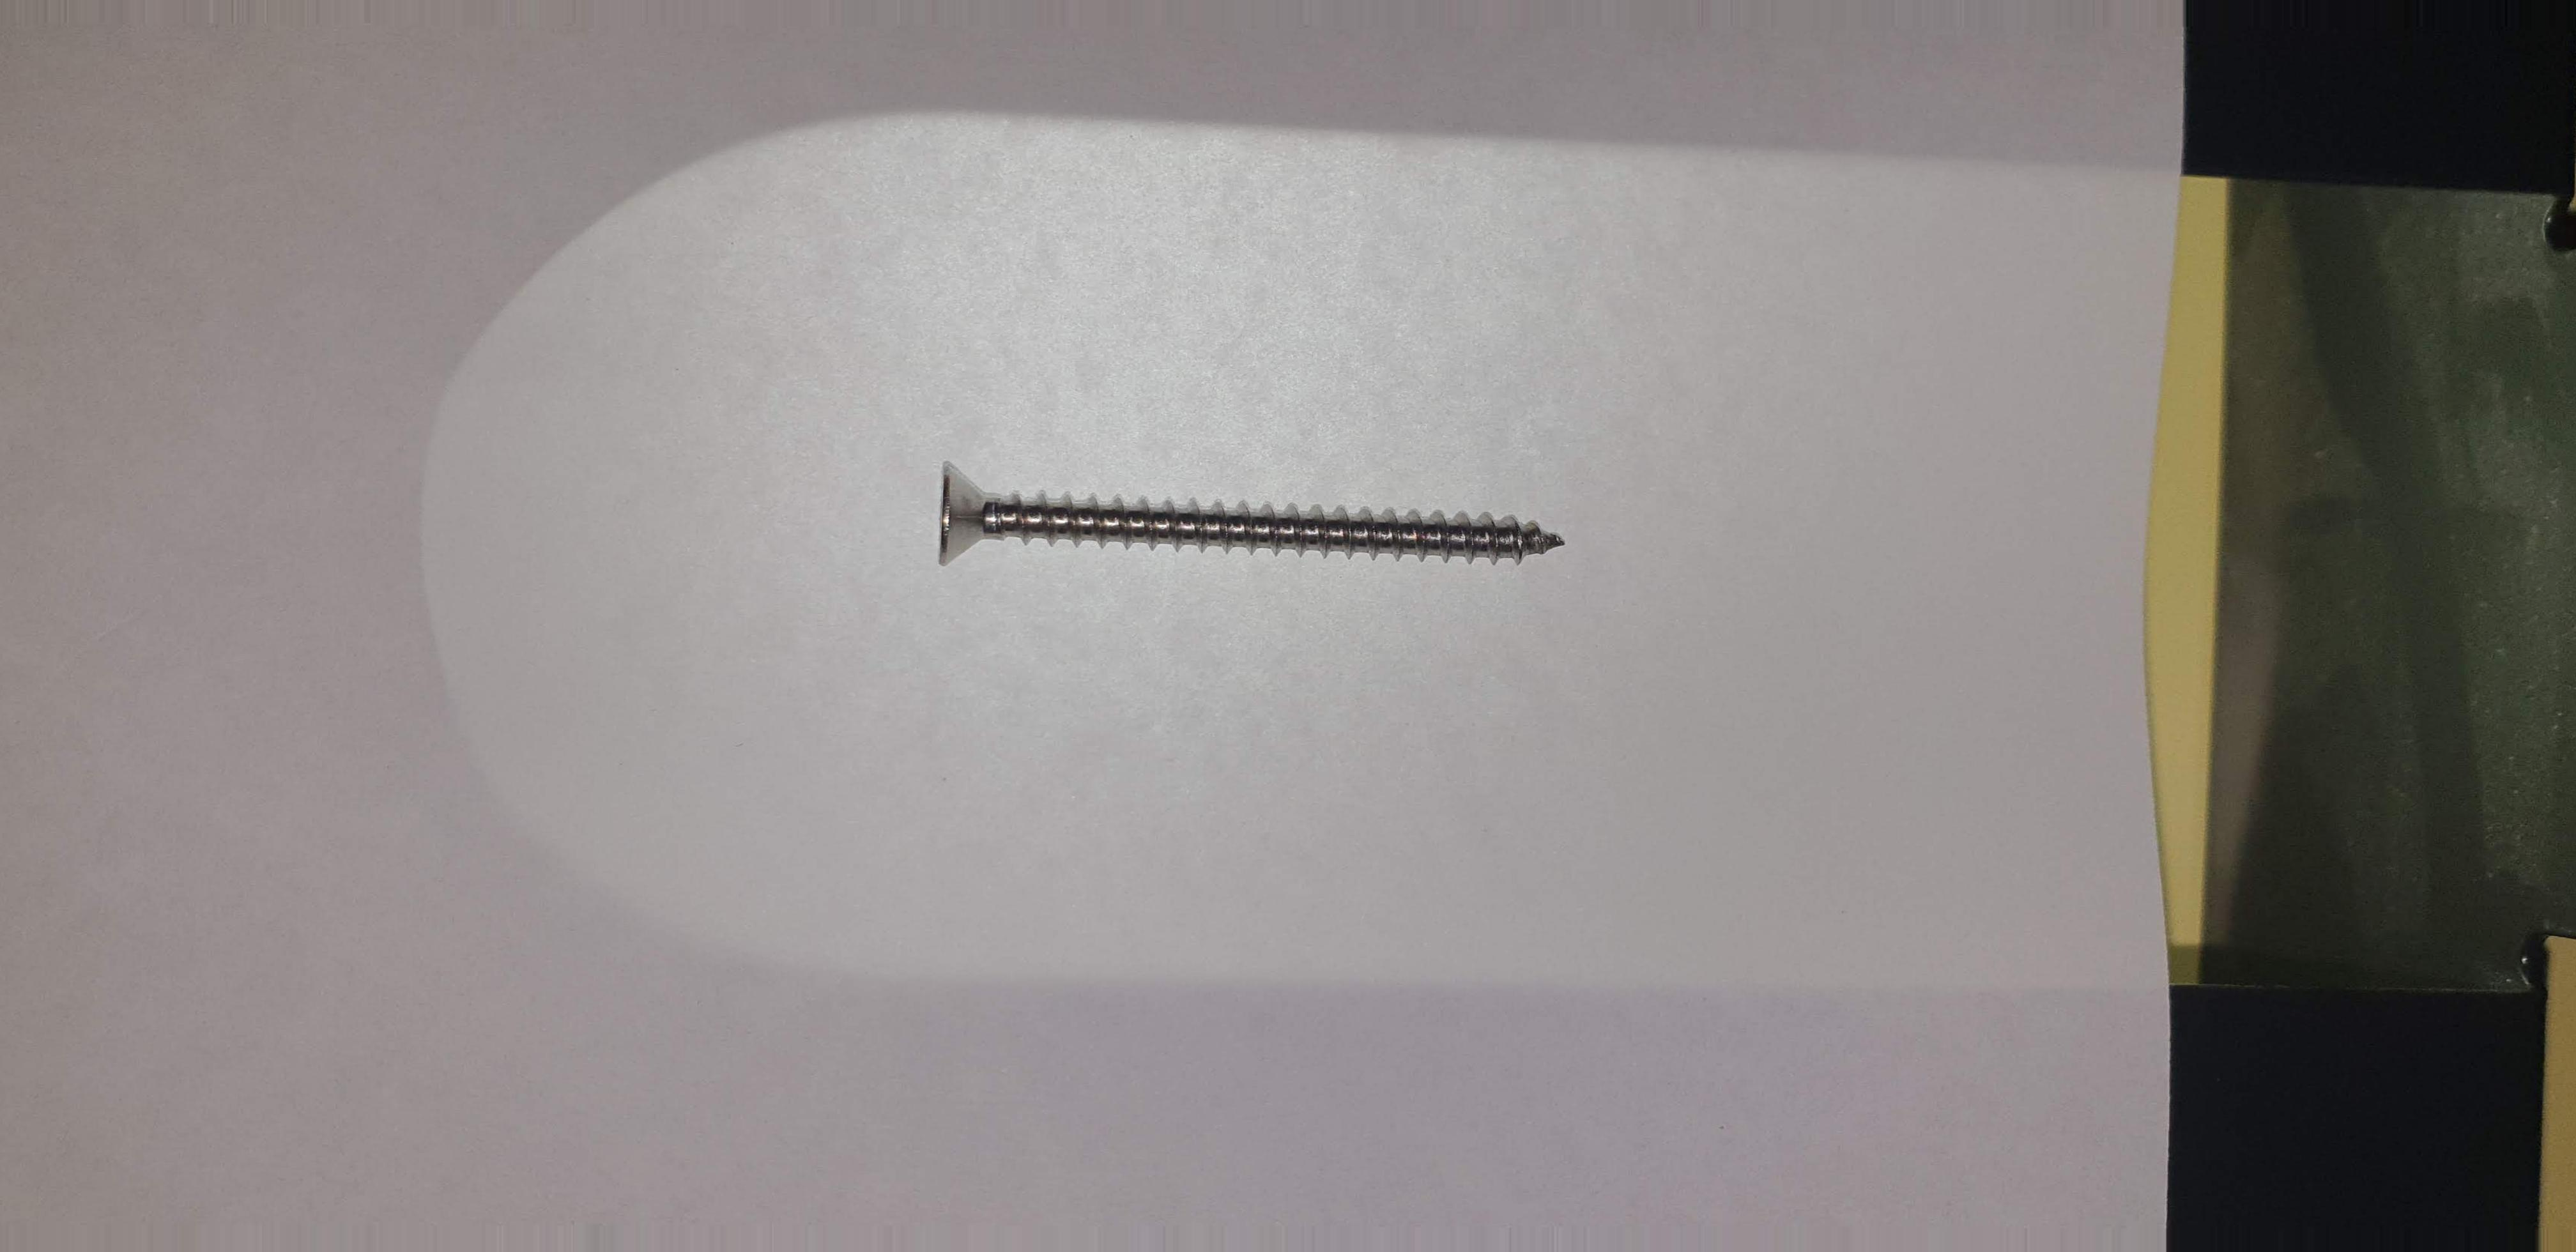fastener: (884, 373, 1613, 661)
